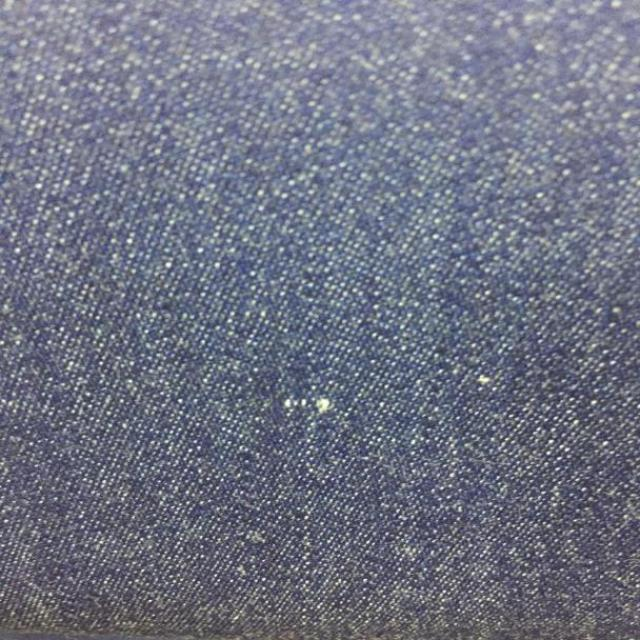Knot: (283, 397, 335, 415)
